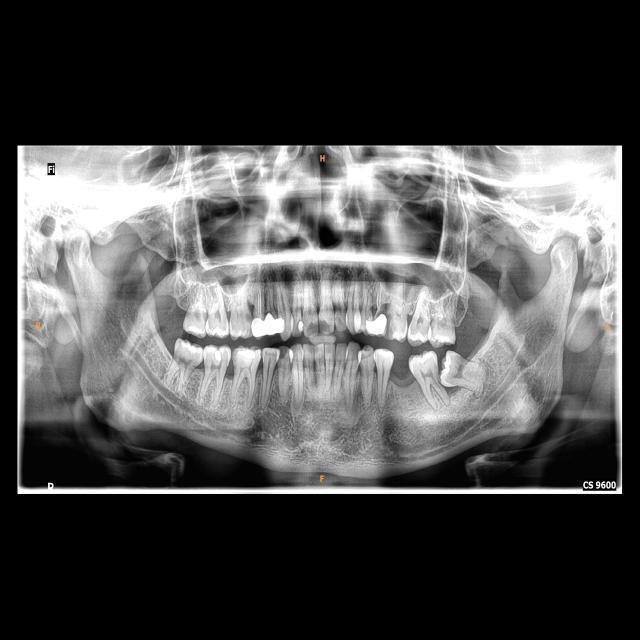dentin-curugu: (307, 314, 319, 337), (320, 319, 333, 335), (386, 324, 396, 341), (278, 347, 290, 361)
dolgu: (277, 314, 293, 333), (295, 318, 305, 334)
kanal-tedavisi: (254, 286, 264, 316)
kaplama: (364, 313, 387, 335), (247, 316, 264, 335), (266, 312, 278, 336)
